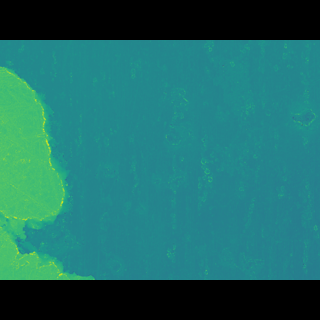Loch: (0, 84, 76, 248)
